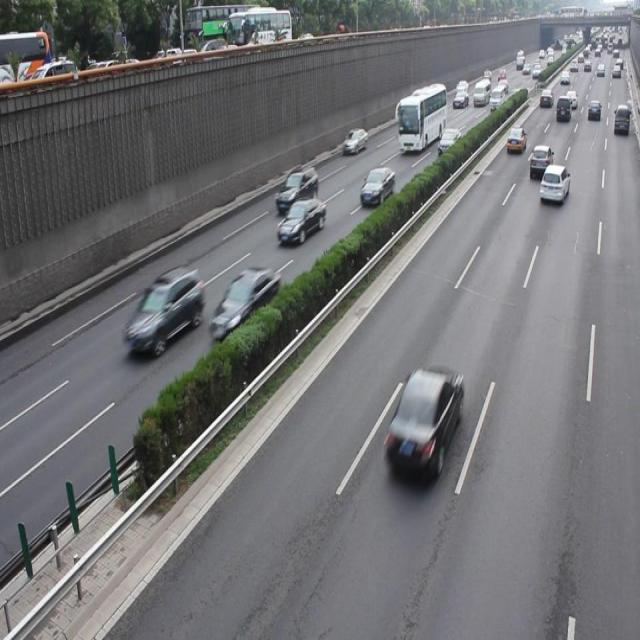car: (382, 366, 462, 480), (123, 264, 204, 354), (208, 266, 280, 342), (276, 196, 326, 244), (274, 164, 318, 212), (359, 165, 394, 207), (537, 162, 569, 204), (528, 143, 552, 179)
